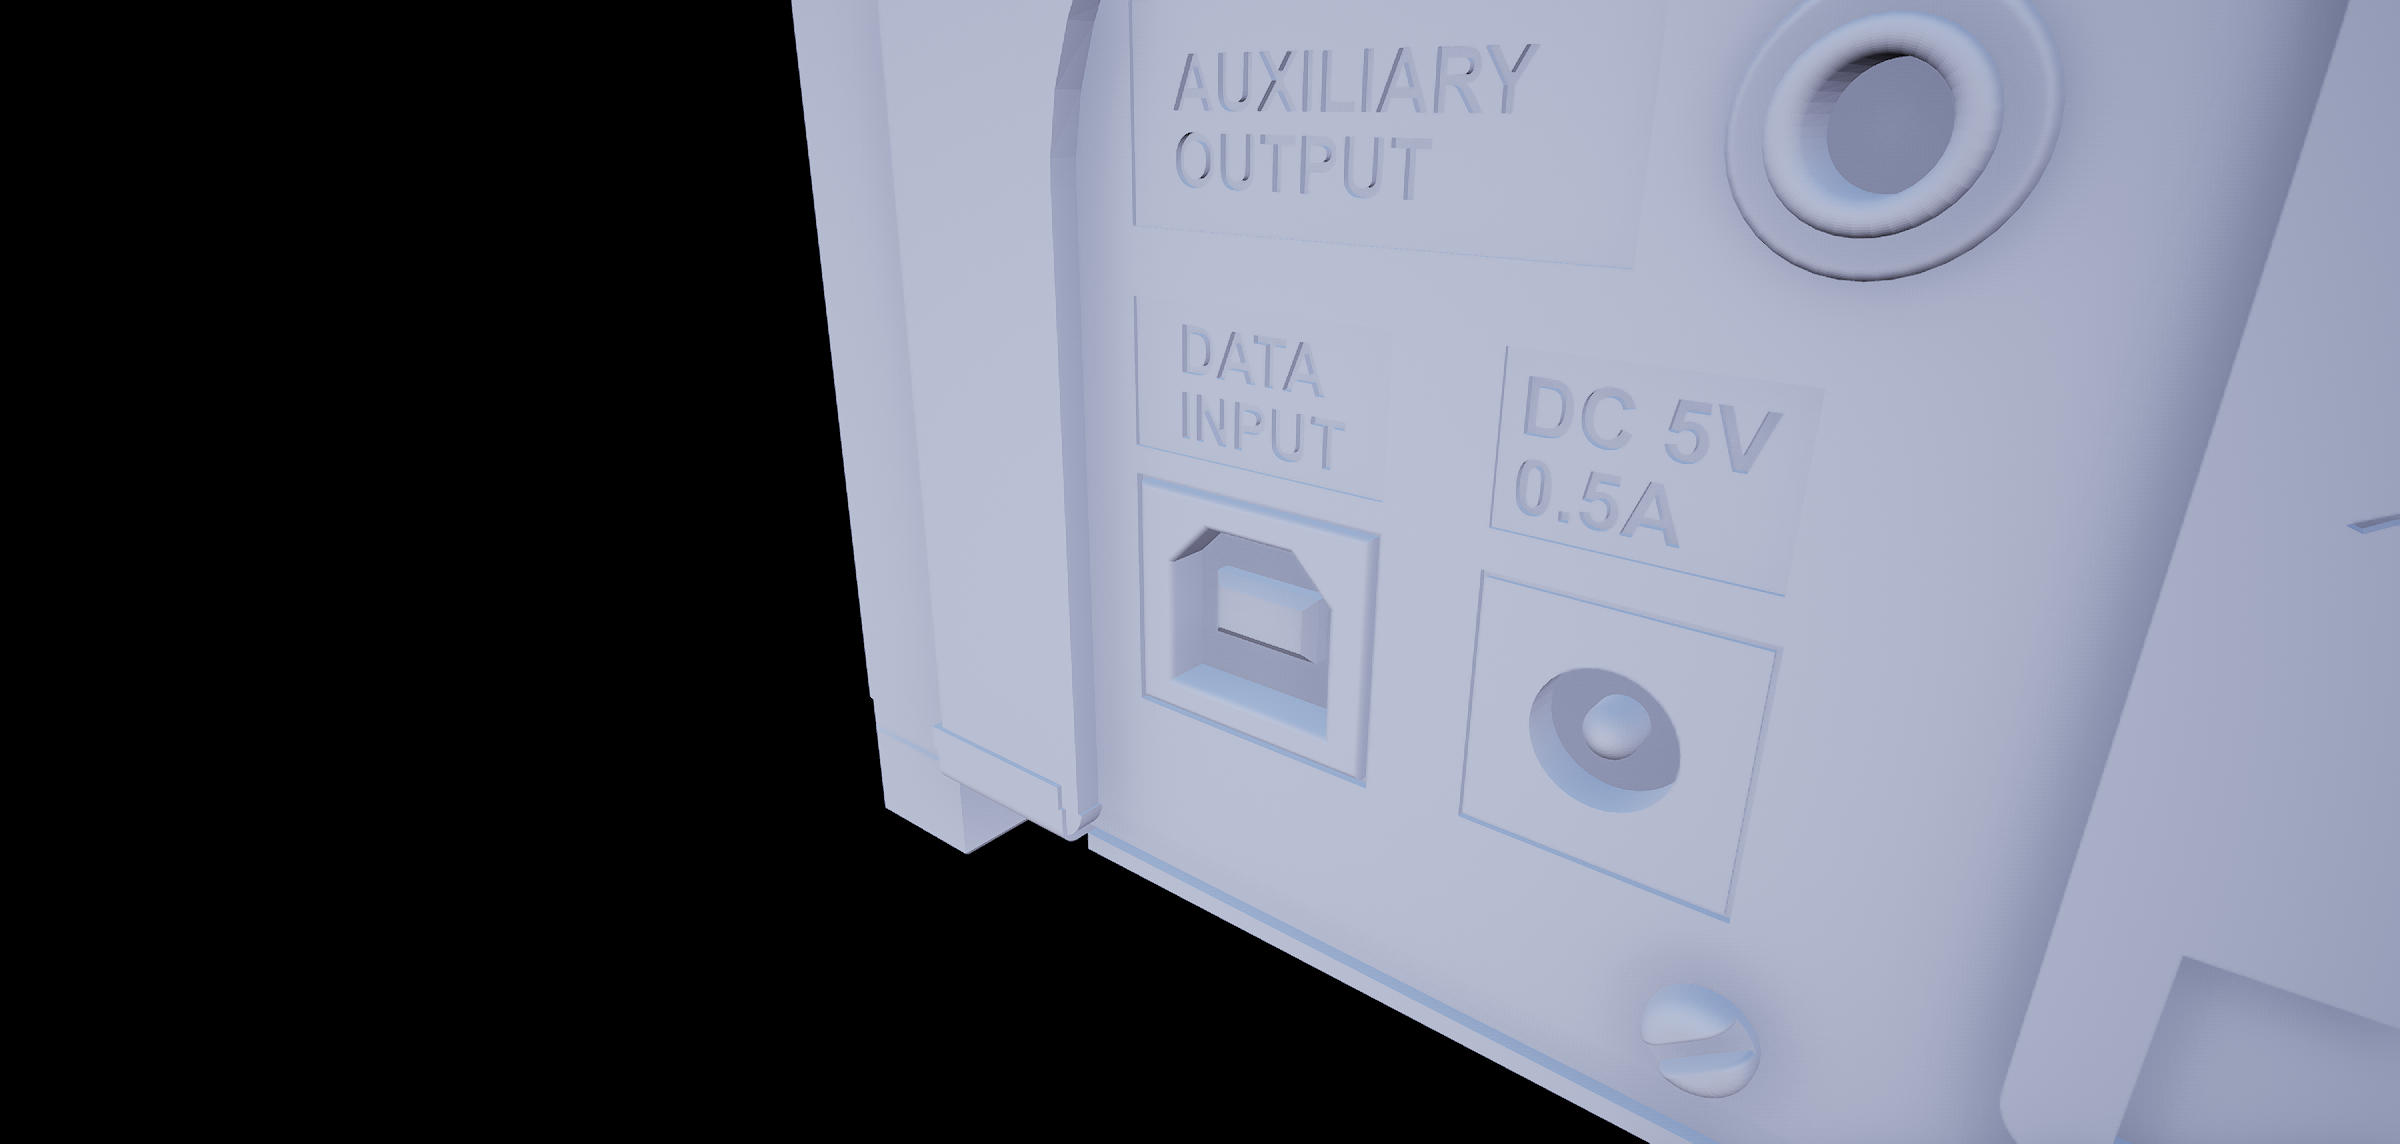aux: (1714, 11, 2059, 270)
dc: (1521, 652, 1691, 832)
usb: (1171, 515, 1342, 744)
